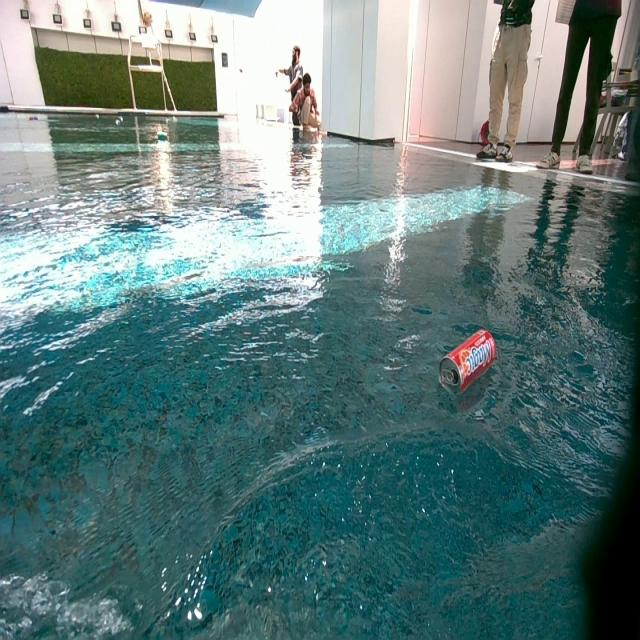Cans: (439, 328, 496, 394), (157, 130, 168, 140), (28, 115, 39, 122), (115, 119, 123, 126), (96, 114, 100, 119)
